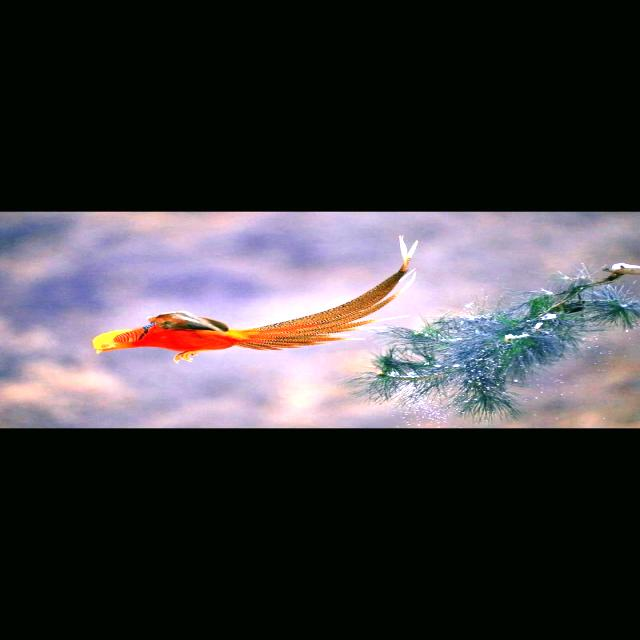Chrysolophus pictus feather: (238, 235, 418, 351)
